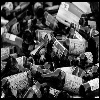beer: (46, 34, 70, 63)
